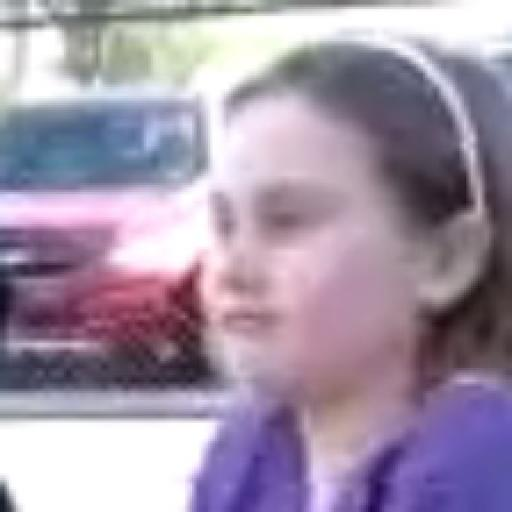Autism: (165, 67, 486, 467)
